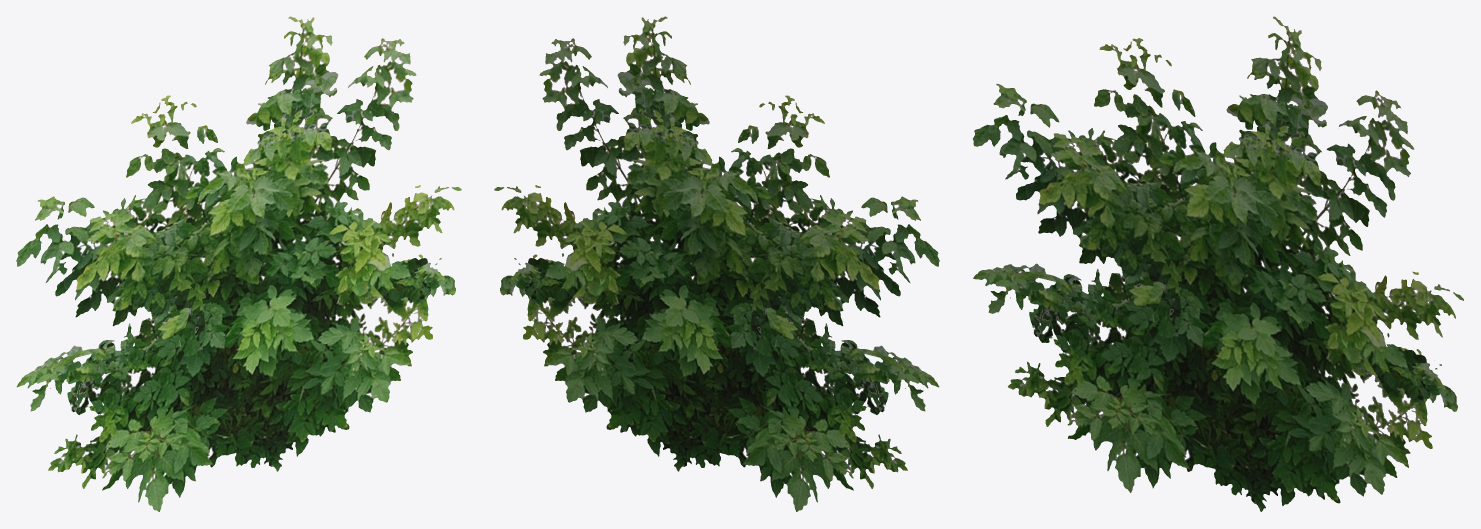
Rendered from arbusto-01.fbx.
3 views of the same model, side by side, from view 1: azimuth 30°, elevation 25°; view 2: azimuth 150°, elevation 25°; view 3: azimuth 330°, elevation 25° (orthographic). The views are drawn at different scales.
Parts seen in each view (by area): view 1: Arbusto_1; view 2: Arbusto_1; view 3: Arbusto_1.
Boxes of the visible parts, bbox=[...] form: Arbusto_1: bbox=[16, 16, 461, 511]; Arbusto_1: bbox=[494, 16, 939, 511]; Arbusto_1: bbox=[973, 16, 1463, 511].
Bounding box in the file's own units: 15.03 × 14.97 × 0.
Materials: 1 (1 with a texture image).
